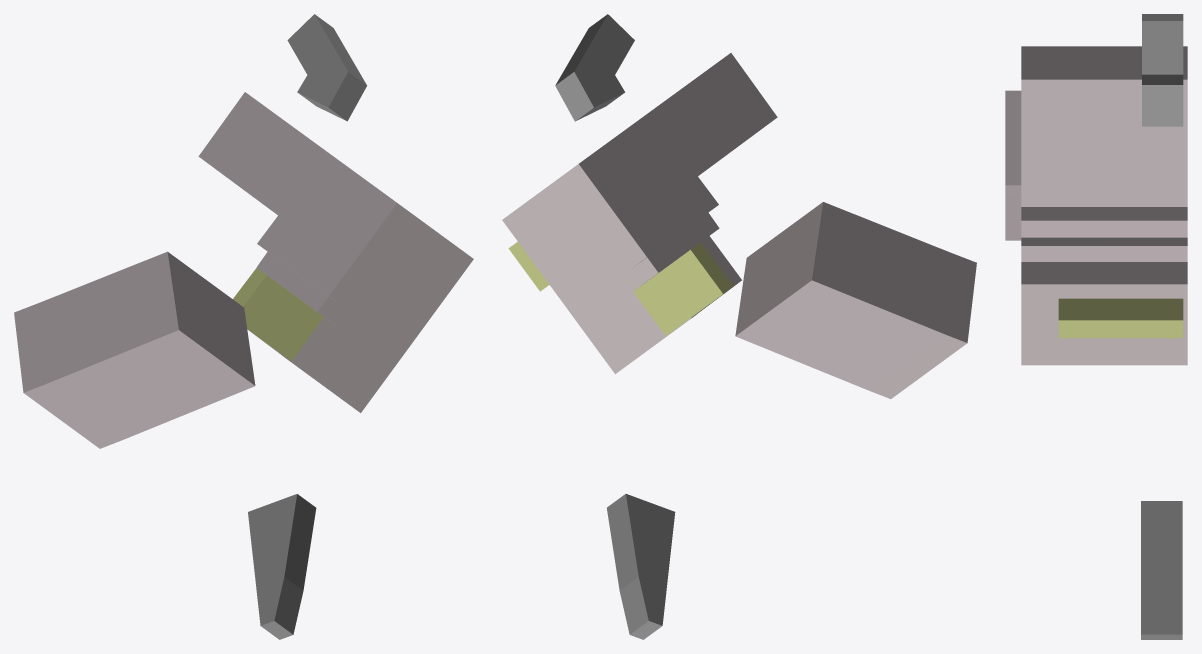
3 views of the same model, side by side, from view 1: azimuth 30°, elevation 25°; view 2: azimuth 150°, elevation 25°; view 3: azimuth 270°, elevation 25° (orthographic). The views are drawn at different scales.
Parts seen in each view (by area): view 1: 0_1_3_2_2_2_2_2_2; view 2: 0_1_3_2_2_2_2_2_2; view 3: 0_1_3_2_2_2_2_2_2.
Part boxes in pixels (left/top/right/bottom): 0_1_3_2_2_2_2_2_2: left=14, top=14, right=473, bottom=639; 0_1_3_2_2_2_2_2_2: left=502, top=14, right=976, bottom=639; 0_1_3_2_2_2_2_2_2: left=1005, top=14, right=1187, bottom=639.
Bounding box in the file's own units: 35.36 × 51.75 × 13.15.
